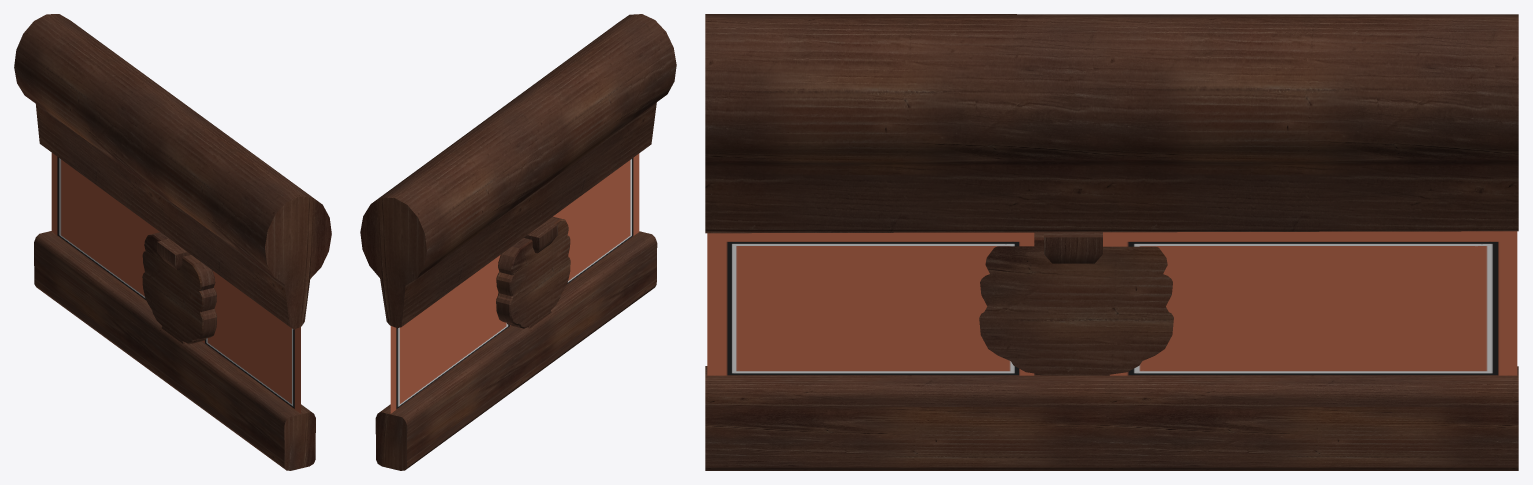
The model's file is SM_R_Dancheong_26.fbx.
The picture shows the model from 3 angles, left to right: view 1: azimuth 30°, elevation 25°; view 2: azimuth 150°, elevation 25°; view 3: azimuth 270°, elevation 25°; orthographic projection. The views are drawn at different scales.
Visible parts, largest first — view 1: SM_R_Dancheong_26; view 2: SM_R_Dancheong_26; view 3: SM_R_Dancheong_26.
Boxes of the visible parts, x1,y1,x2,y2 form: SM_R_Dancheong_26: (14,14,331,470); SM_R_Dancheong_26: (360,14,676,470); SM_R_Dancheong_26: (705,14,1518,470).
Size of the model in its own units: 43.91 by 283 by 170.
3 materials, 3 textured.
